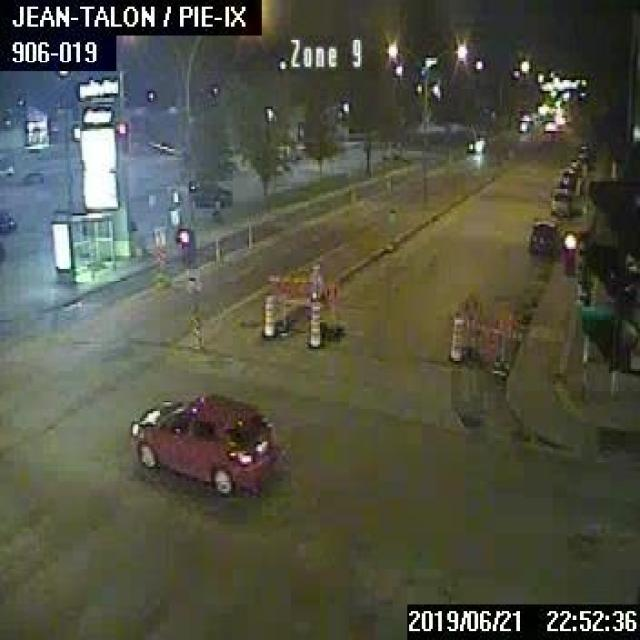construction: (265, 262, 343, 340), (456, 294, 520, 374), (448, 313, 463, 363), (306, 301, 321, 347), (260, 295, 274, 335)
vehicle: (123, 396, 274, 494), (188, 179, 232, 208), (529, 220, 558, 252), (550, 187, 571, 215), (466, 134, 486, 154), (19, 168, 42, 183), (557, 168, 575, 187), (0, 210, 15, 230), (567, 157, 581, 174), (576, 143, 589, 159)
